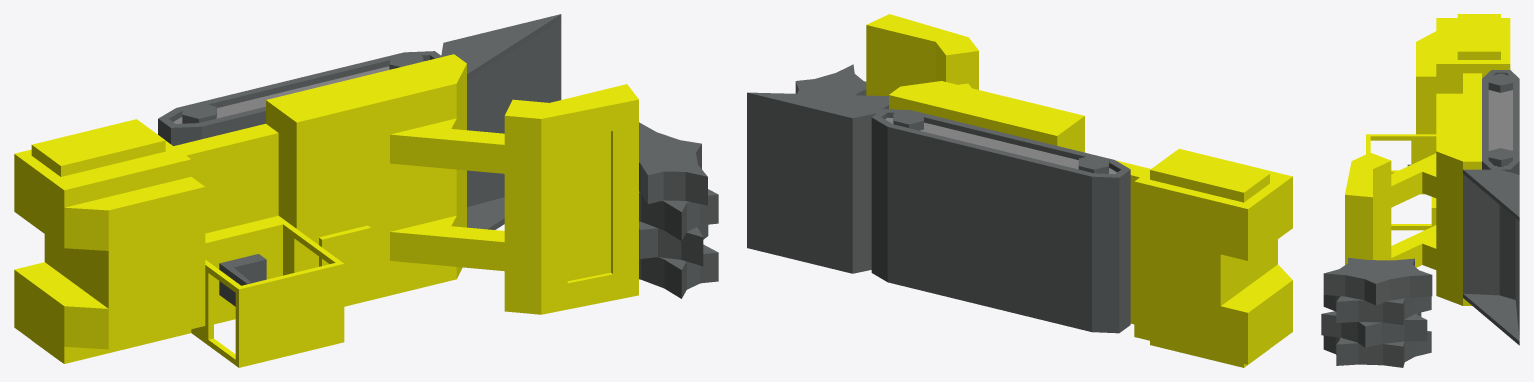
File: continuous_miner.dae
The picture shows the model from 3 angles, left to right: view 1: azimuth 30°, elevation 25°; view 2: azimuth 150°, elevation 25°; view 3: azimuth 270°, elevation 25°; orthographic projection. The views are drawn at different scales.
Parts seen in each view (by area): view 1: coords_ME_ID50_MA_material_2, coords_ME_ID42_MA_material_1, coords_ME_ID186_MA_material_2, coords_ME_ID180_MA_material_2, coords_ME_ID5_MA_material, coords_ME_ID58_MA_material_2, coords_ME_ID34_MA_material_0, coords_ME_ID21_MA_material, coords_ME_ID14_MA_material, coords_ME_ID84_MA_material_0, coords_ME_ID28_MA_material, coords_ME_ID192_MA_material_2 (+2 smaller); view 2: coords_ME_ID34_MA_material_0, coords_ME_ID50_MA_material_2, coords_ME_ID42_MA_material_1, coords_ME_ID180_MA_material_2, coords_ME_ID84_MA_material_0, coords_ME_ID78_MA_material_3, coords_ME_ID5_MA_material, coords_ME_ID174_MA_material_2; view 3: coords_ME_ID50_MA_material_2, coords_ME_ID42_MA_material_1, coords_ME_ID5_MA_material, coords_ME_ID28_MA_material, coords_ME_ID21_MA_material, coords_ME_ID14_MA_material, coords_ME_ID180_MA_material_2, coords_ME_ID34_MA_material_0, coords_ME_ID78_MA_material_3, coords_ME_ID58_MA_material_2, coords_ME_ID84_MA_material_0, coords_ME_ID192_MA_material_2.
Boxes of the visible parts, <box> form: coords_ME_ID50_MA_material_2: <box>14,54,638,367</box>; coords_ME_ID42_MA_material_1: <box>441,14,561,229</box>; coords_ME_ID186_MA_material_2: <box>567,131,612,283</box>; coords_ME_ID180_MA_material_2: <box>31,119,165,176</box>; coords_ME_ID5_MA_material: <box>639,122,707,205</box>; coords_ME_ID58_MA_material_2: <box>205,224,335,359</box>; coords_ME_ID34_MA_material_0: <box>158,51,442,145</box>; coords_ME_ID21_MA_material: <box>639,244,718,298</box>; coords_ME_ID14_MA_material: <box>639,189,718,240</box>; coords_ME_ID84_MA_material_0: <box>169,52,434,123</box>; coords_ME_ID28_MA_material: <box>639,221,708,266</box>; coords_ME_ID192_MA_material_2: <box>319,225,370,284</box>; coords_ME_ID34_MA_material_0: <box>871,105,1130,333</box>; coords_ME_ID50_MA_material_2: <box>866,14,1292,364</box>; coords_ME_ID42_MA_material_1: <box>747,92,888,273</box>; coords_ME_ID180_MA_material_2: <box>1150,151,1269,202</box>; coords_ME_ID84_MA_material_0: <box>881,110,1120,173</box>; coords_ME_ID78_MA_material_3: <box>920,122,1078,169</box>; coords_ME_ID5_MA_material: <box>795,64,866,95</box>; coords_ME_ID174_MA_material_2: <box>1130,319,1269,367</box>; coords_ME_ID50_MA_material_2: <box>1345,18,1510,305</box>; coords_ME_ID42_MA_material_1: <box>1463,169,1519,345</box>; coords_ME_ID5_MA_material: <box>1323,257,1432,305</box>; coords_ME_ID28_MA_material: <box>1321,311,1427,347</box>; coords_ME_ID21_MA_material: <box>1323,331,1431,367</box>; coords_ME_ID14_MA_material: <box>1323,295,1431,324</box>; coords_ME_ID180_MA_material_2: <box>1457,14,1500,59</box>; coords_ME_ID34_MA_material_0: <box>1482,70,1519,174</box>; coords_ME_ID78_MA_material_3: <box>1488,90,1512,150</box>; coords_ME_ID58_MA_material_2: <box>1370,136,1436,225</box>; coords_ME_ID84_MA_material_0: <box>1488,72,1512,166</box>; coords_ME_ID192_MA_material_2: <box>1431,197,1436,226</box>.
Bounding box in the file's own units: 108 × 33.8 × 42.07.
